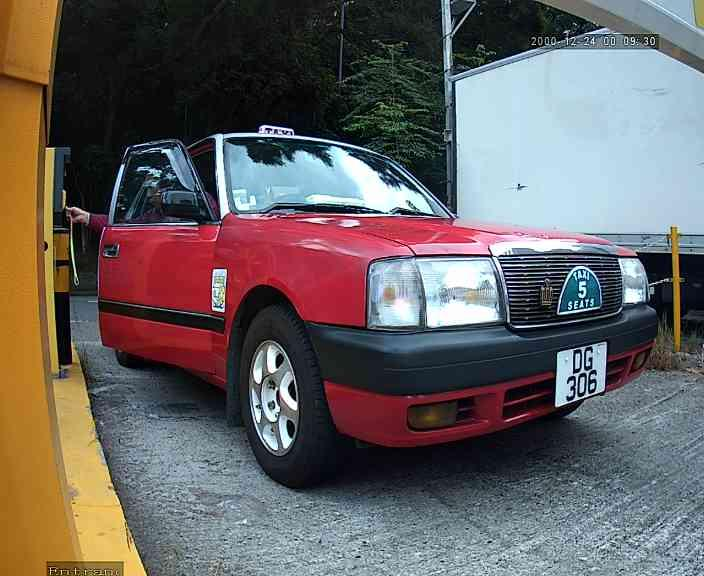Car: (117, 37, 635, 479), (544, 331, 620, 412)
